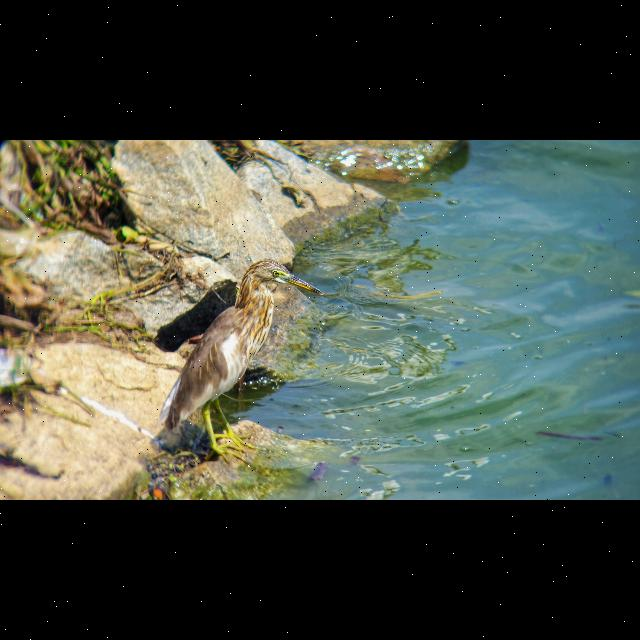heron: (158, 258, 326, 460)
